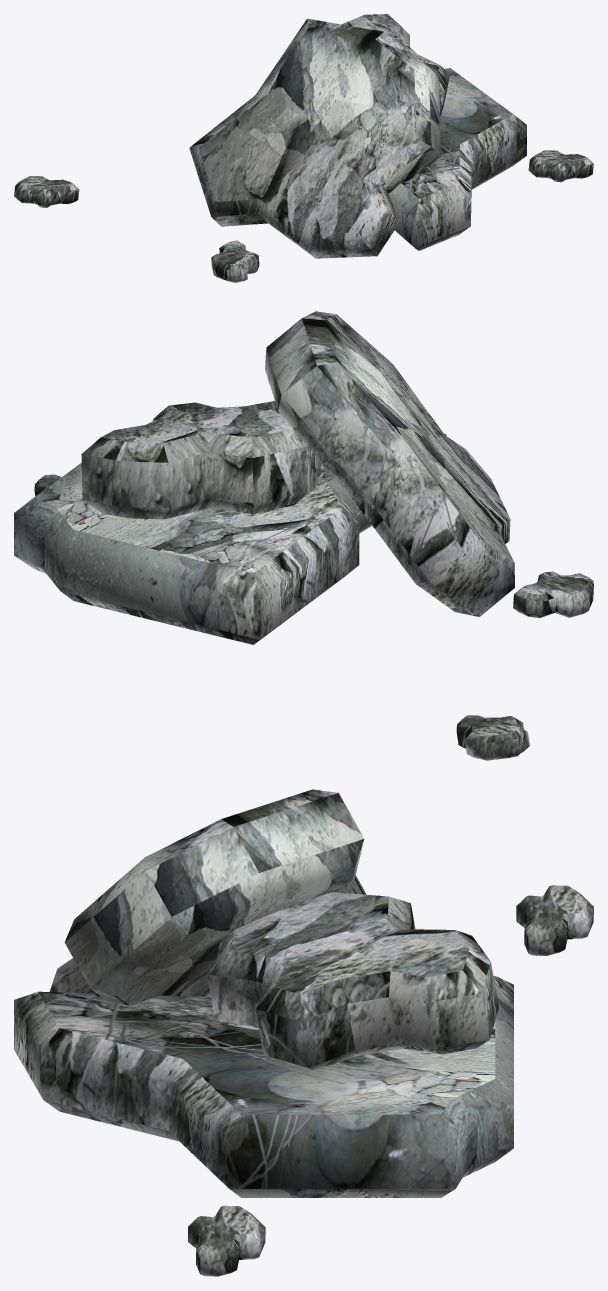
File: Rubble_Small.FBX
3 renders of one model, top to bottom at view 1: azimuth 30°, elevation 25°; view 2: azimuth 150°, elevation 25°; view 3: azimuth 270°, elevation 25°, orthographic. The views are drawn at different scales.
Parts seen in each view (by area): view 1: Line005; view 2: Line005; view 3: Line005.
Part boxes in pixels (bbox=[...]): Line005: bbox=[14, 14, 593, 282]; Line005: bbox=[14, 311, 593, 760]; Line005: bbox=[14, 789, 593, 1276].
Bounding box in the file's own units: 205 × 78.79 × 139.
